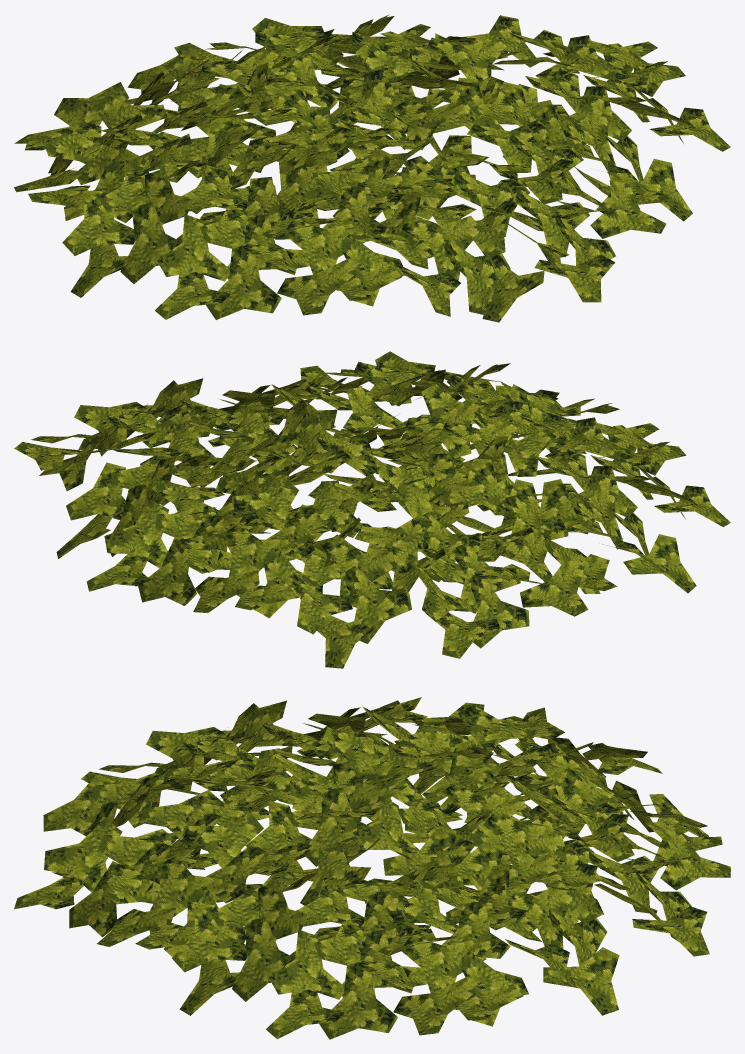
The picture shows the model from 3 angles, top to bottom: view 1: azimuth 30°, elevation 25°; view 2: azimuth 150°, elevation 25°; view 3: azimuth 270°, elevation 25°; orthographic projection. The views are drawn at different scales.
Visible parts, largest first — view 1: MH_Moss01_01.Shape; view 2: MH_Moss01_01.Shape; view 3: MH_Moss01_01.Shape.
Part boxes in pixels (x1,y1,x2,y2): MH_Moss01_01.Shape: (14, 14, 730, 322); MH_Moss01_01.Shape: (14, 351, 730, 668); MH_Moss01_01.Shape: (14, 697, 730, 1039).
Size of the model in its own units: 0.1078 by 0.019 by 0.0989.
1 material, 1 textured.
